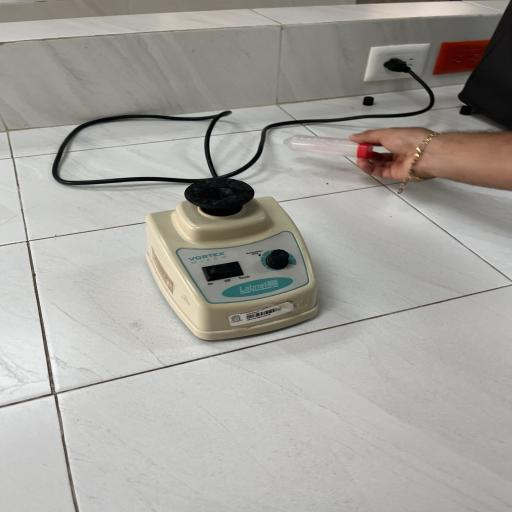Vortex_Mixer_LabNet: (133, 176, 352, 346)
